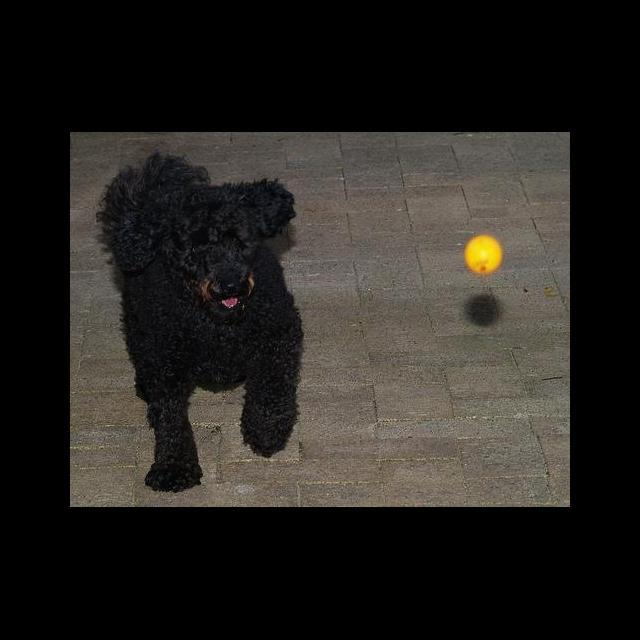ping-pong-ball: (464, 233, 503, 276)
